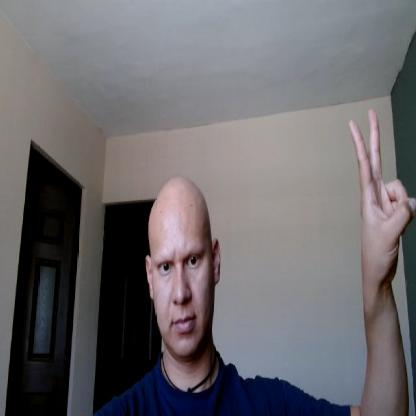V: (347, 106, 415, 280)
